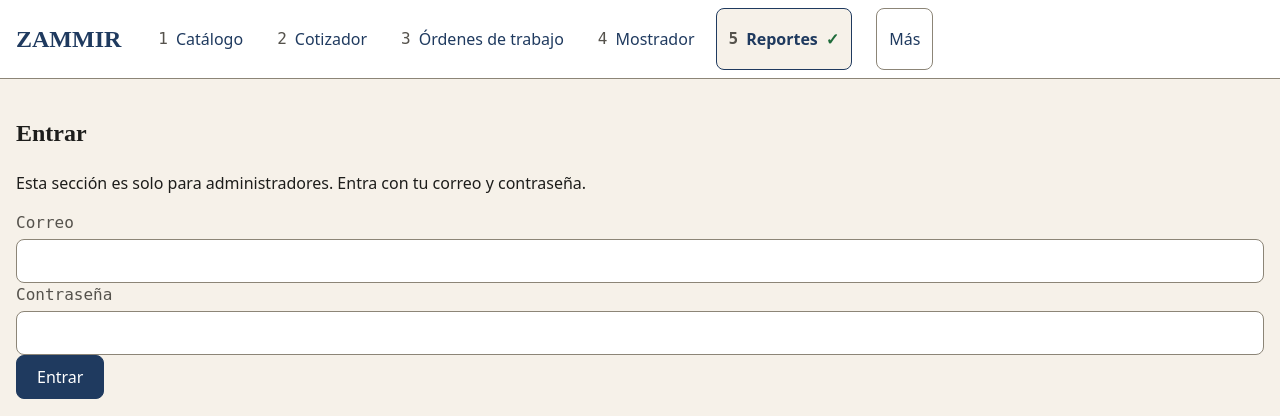
Test: sección de administradores › un administrador con credenciales válidas entra y ve la sección
Type "admin@ejemplo.invalid" into the field labelled "Correo" at {"x": 640, "y": 261}, box [16,239,1264,283]
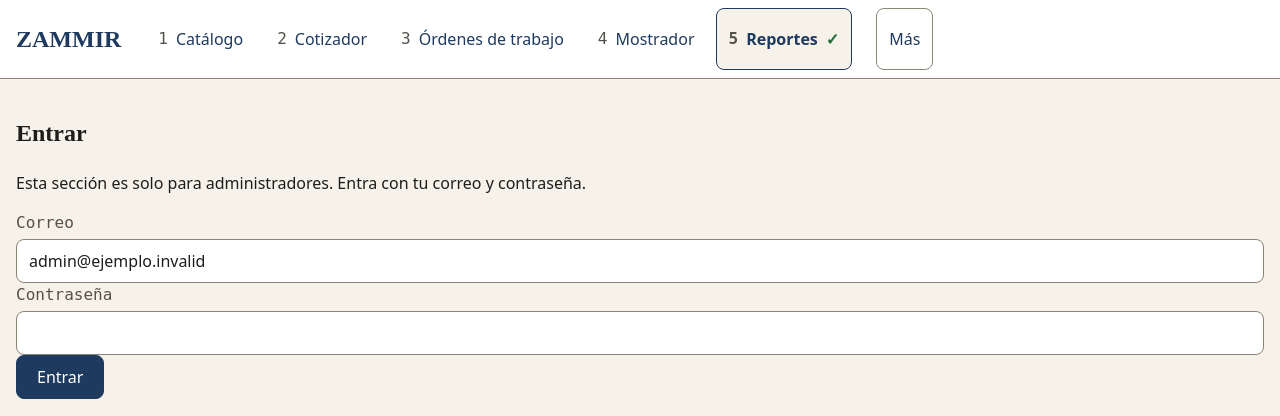
Type "clave-de-prueba-1" into the password field labelled "Contraseña" at {"x": 640, "y": 333}, box [16,311,1264,355]
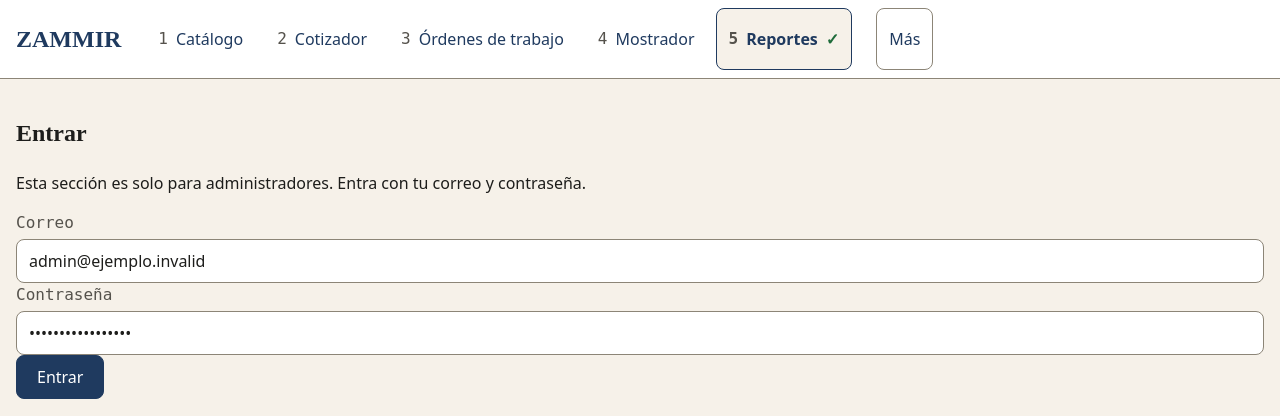
Click the button "Entrar" at {"x": 60, "y": 377}, box [16,355,104,399]
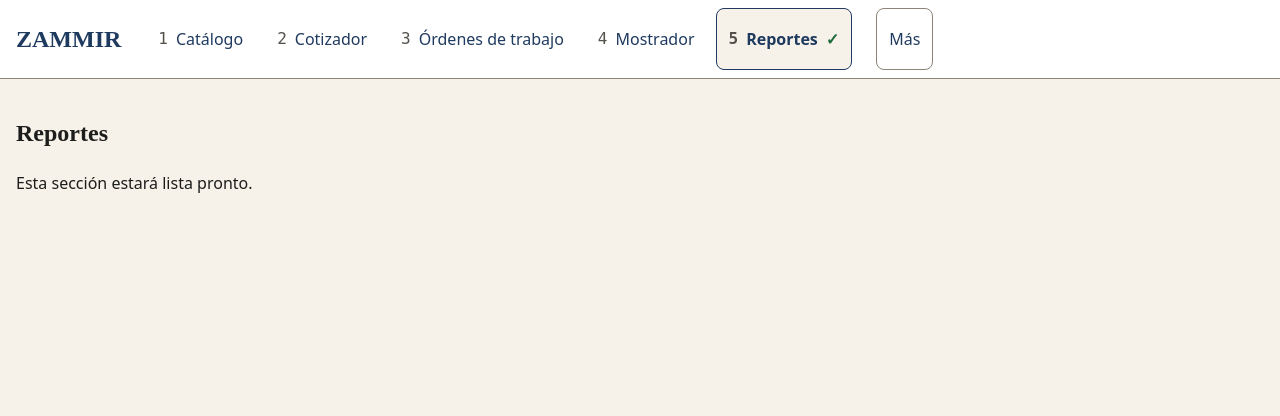
Result: the heading "Reportes" is shown at [16,120,108,146]
